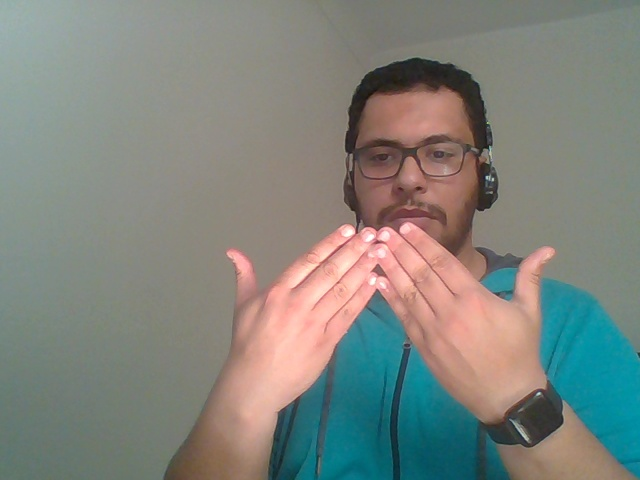thanks: (143, 216, 615, 480)
